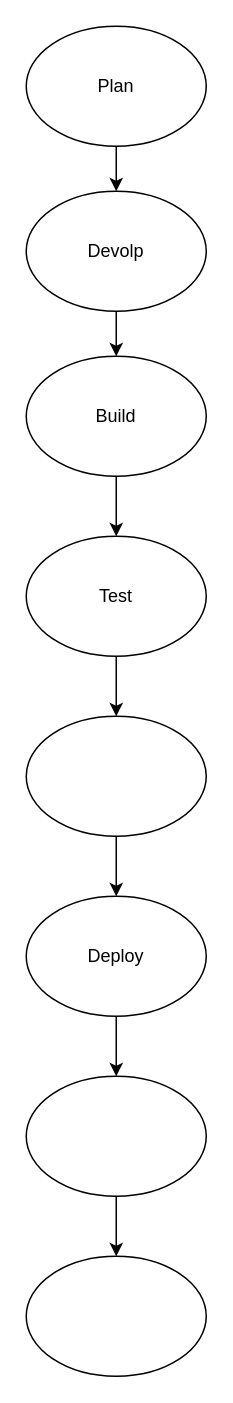
Image size: 233x1403. Some labels were removed from this diagram. Each missing label, with the box of its shape:
Operate: (25, 1075, 206, 1196)
Release: (25, 715, 206, 836)
